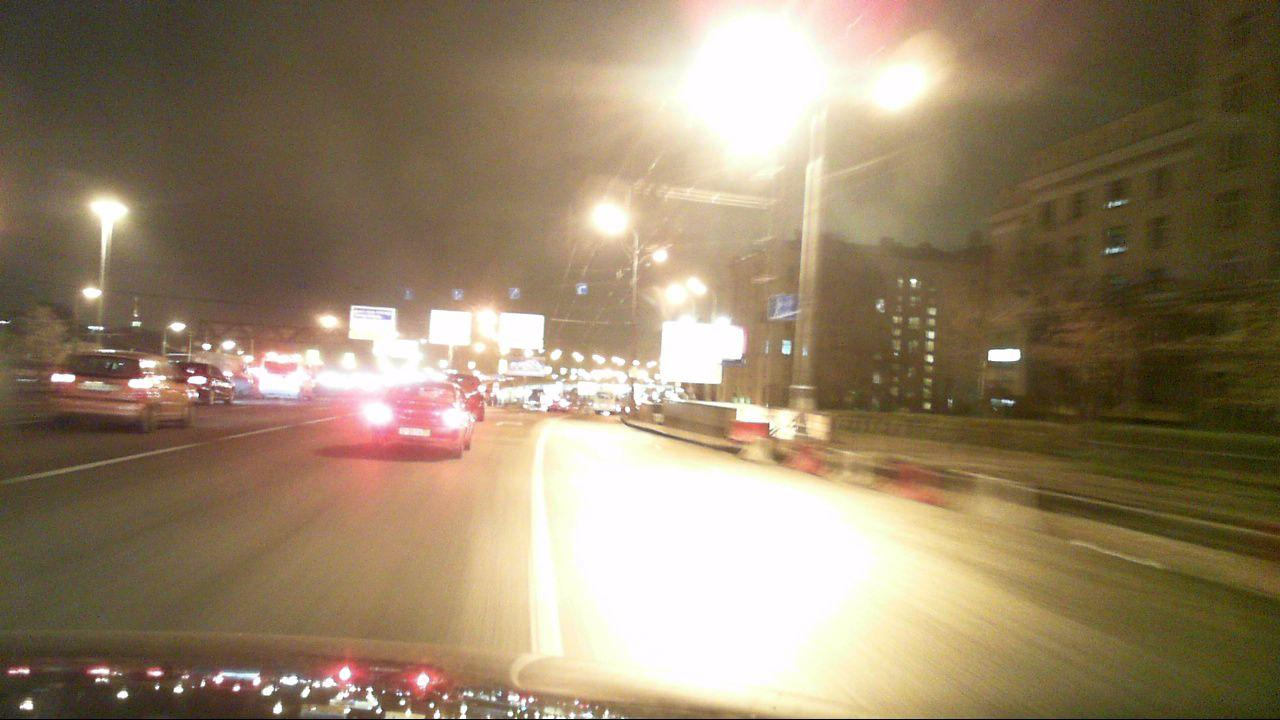5_15_2: (402, 287, 417, 303), (507, 288, 522, 301), (452, 288, 465, 301), (576, 282, 589, 295)
6_6: (775, 295, 801, 321)
